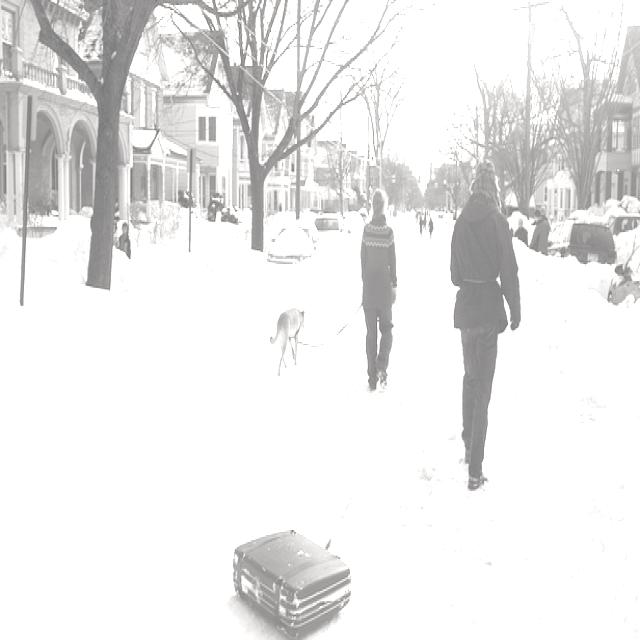Vehicle: (266, 220, 324, 264), (607, 237, 640, 308), (568, 222, 618, 264), (314, 215, 342, 239)
